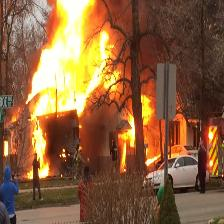fire: (40, 1, 96, 111)
